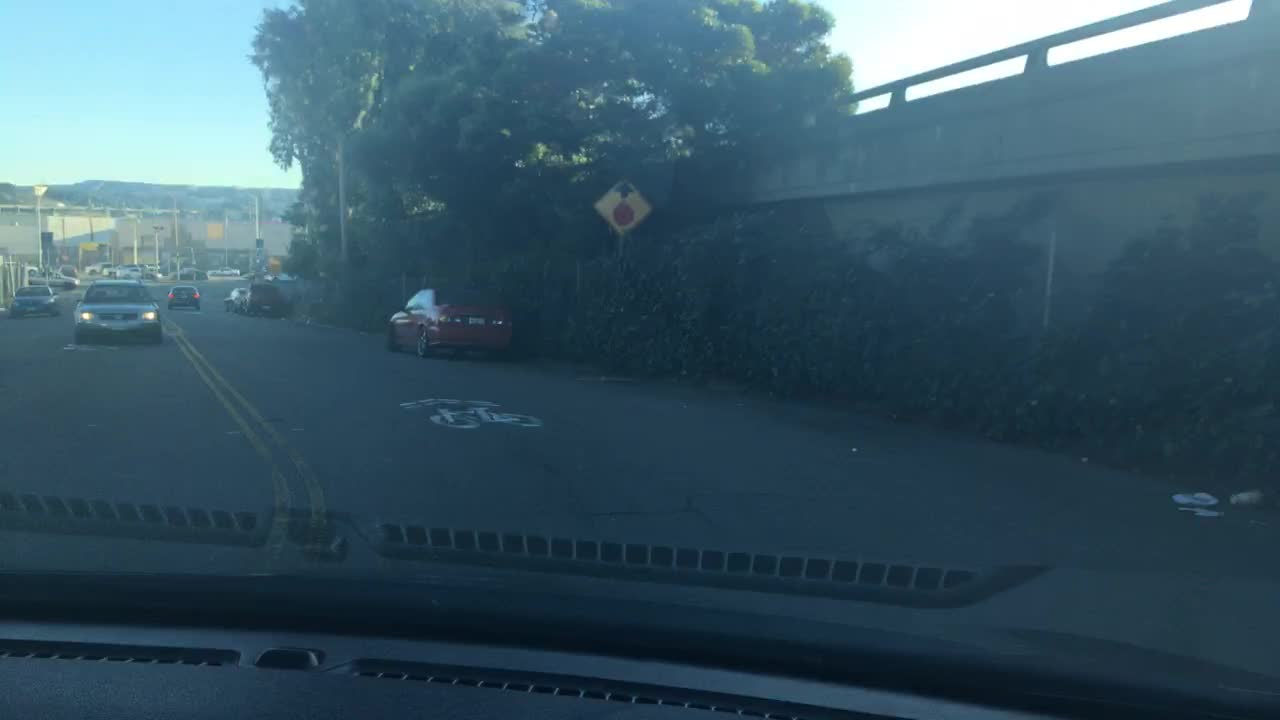car: (388, 286, 520, 358), (72, 278, 166, 345), (593, 177, 654, 243), (6, 282, 70, 320), (242, 279, 285, 317), (166, 283, 204, 315), (22, 270, 78, 291), (163, 264, 207, 282), (117, 267, 163, 282), (220, 285, 247, 310), (107, 260, 139, 276), (81, 260, 110, 276), (201, 266, 242, 277), (57, 262, 78, 276)
